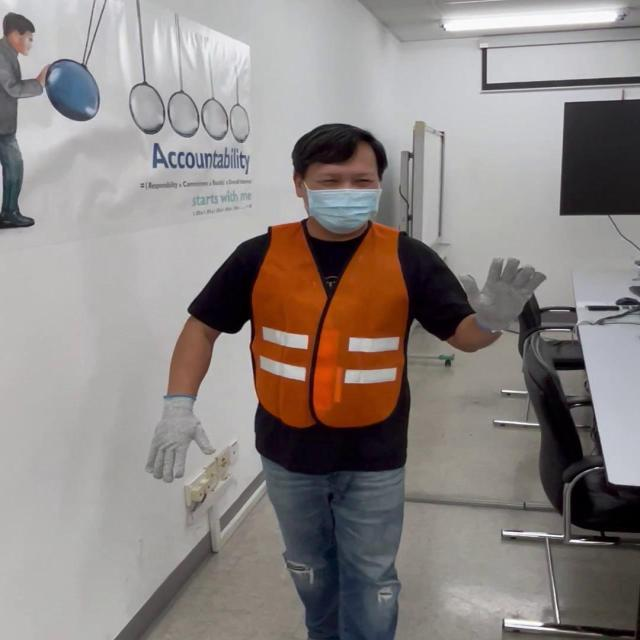gloved_hand: (145, 394, 220, 484), (464, 249, 541, 332)
